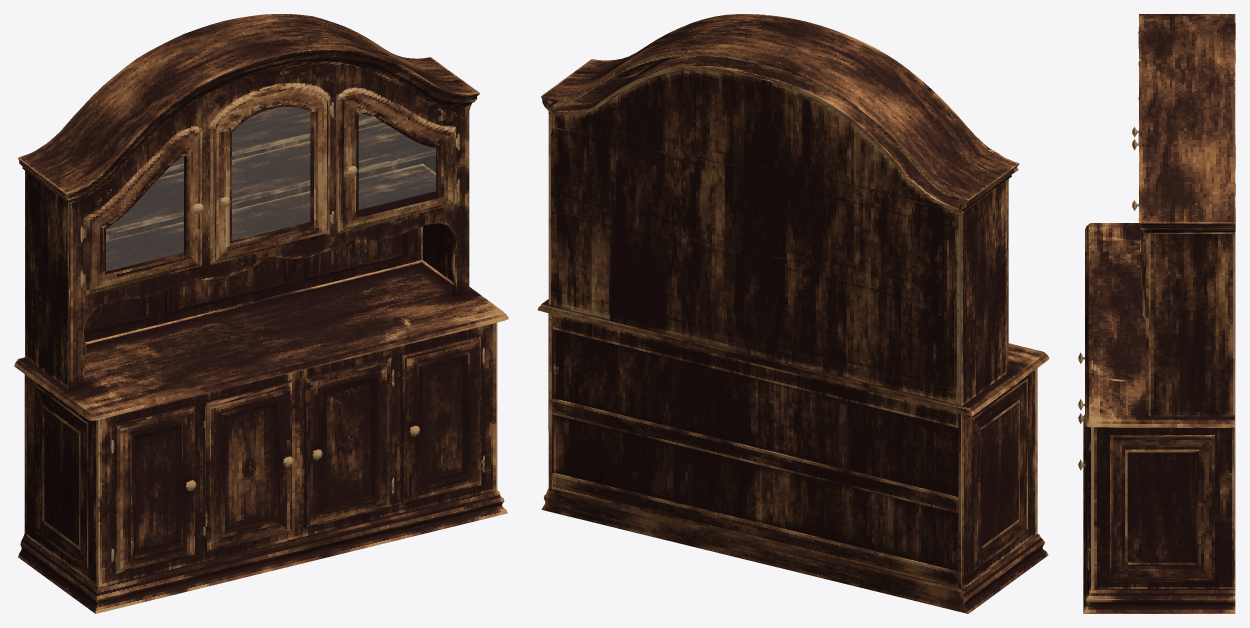
File: vintage_cabinet_01.glb
3 views of the same model, side by side, from view 1: azimuth 30°, elevation 25°; view 2: azimuth 150°, elevation 25°; view 3: azimuth 270°, elevation 25° (orthographic). The views are drawn at different scales.
Parts seen in each view (by area): view 1: body, glass; view 2: body; view 3: body.
Boxes of the visible parts, x1,y1,x2,y2 form: body: [14, 14, 508, 613]; glass: [106, 107, 435, 271]; body: [537, 14, 1049, 613]; body: [1078, 14, 1235, 613].
Size of the model in its own units: 2.02 by 2.24 by 0.67.
2 materials, 2 textured.
